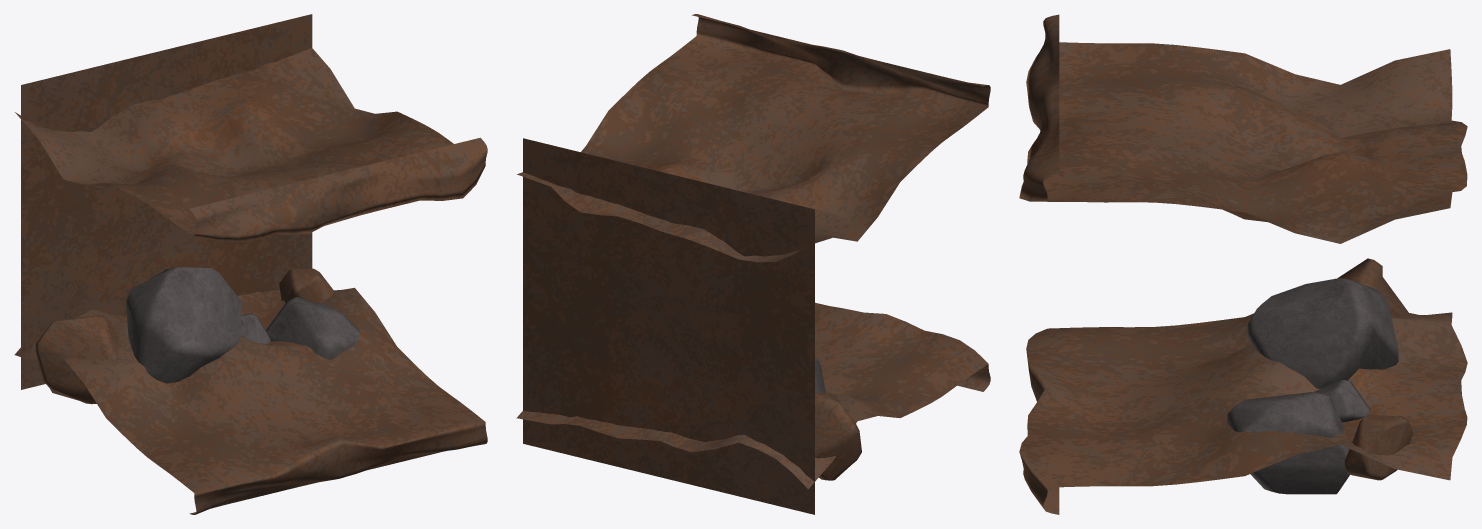
Rendered from BackgroundScene_01.fbx.
The picture shows the model from 3 angles, left to right: view 1: azimuth 30°, elevation 25°; view 2: azimuth 150°, elevation 25°; view 3: azimuth 270°, elevation 25°; orthographic projection. The views are drawn at different scales.
Parts seen in each view (by area): view 1: Background1; view 2: Background1; view 3: Background1.
Part boxes in pixels (bbox=[...]): Background1: bbox=[14, 14, 487, 514]; Background1: bbox=[516, 14, 990, 514]; Background1: bbox=[1019, 14, 1467, 514].
Size of the model in its own units: 10.45 by 10.44 by 11.91.
